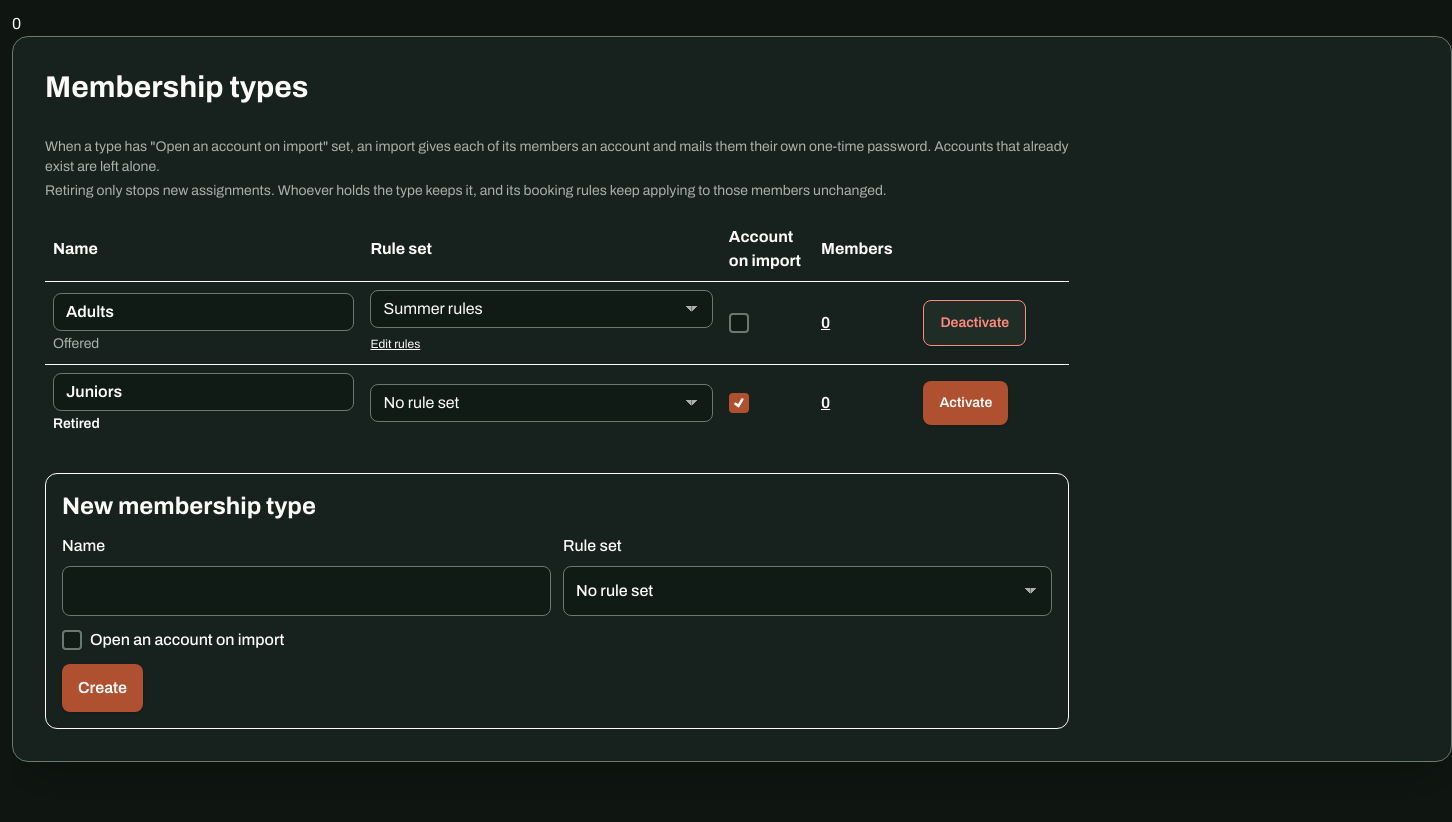
Test: AdminMembershipTypesView › given the create form is filled in, when it is read, then it holds work
Type "Students" into the field with test id "new-membership-type-name" at (306, 590), box [62,566,551,616]
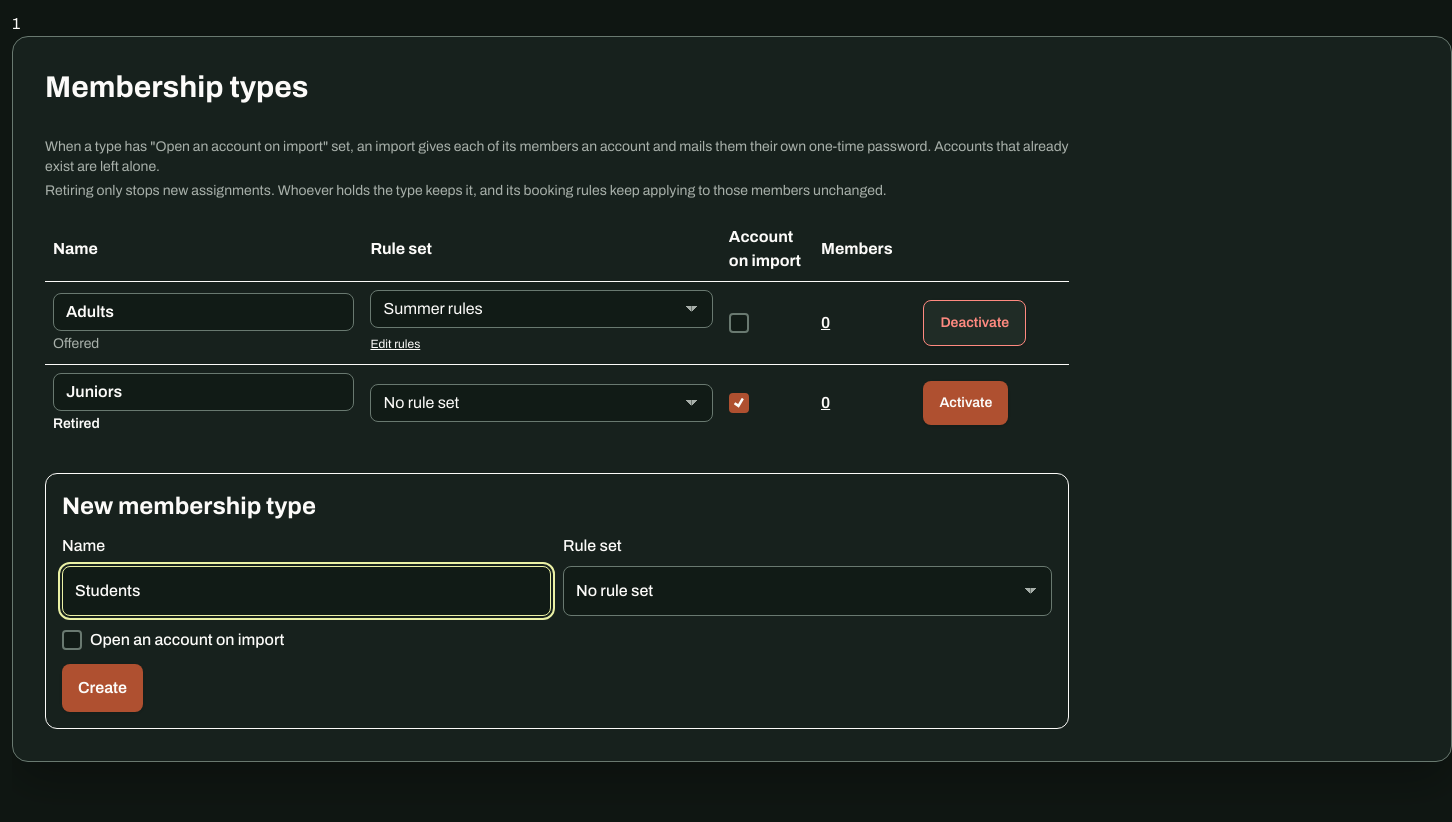
expect the text with test id "unsaved-count" reads "1": met, box [12,15,20,32]
